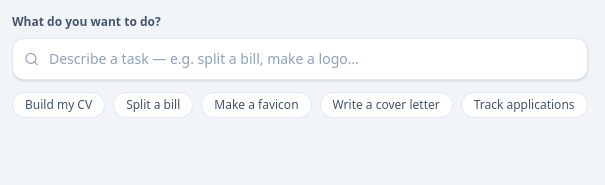
Test: HeroPrompt › matches a multi-word intent
The width and height of the screenshot is (605, 185).
Type "split a bill" into the search field named "What do you want to do?" at (300, 59), box [12,38,588,80]
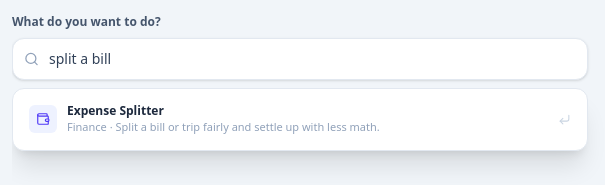
Result: the option "Expense Splitter" is shown at [19,95,581,144]
